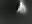person: (18, 1, 28, 16)
